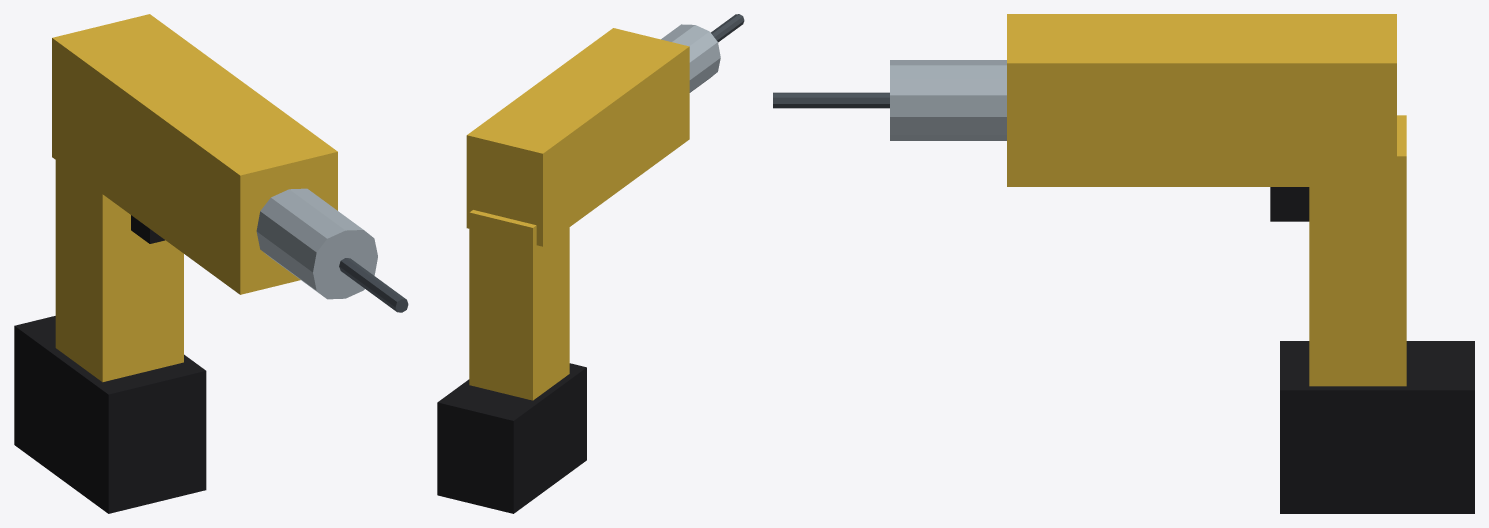
File: GT_CordlessDrill_01.glb
3 views of the same model, side by side, from view 1: azimuth 30°, elevation 25°; view 2: azimuth 150°, elevation 25°; view 3: azimuth 270°, elevation 25° (orthographic). The views are drawn at different scales.
Visible parts, largest first — view 1: GT_CordlessDrill_01; view 2: GT_CordlessDrill_01; view 3: GT_CordlessDrill_01.
Boxes of the visible parts, box(x1,y1,x2,y2) form: GT_CordlessDrill_01: box(14, 14, 408, 513); GT_CordlessDrill_01: box(437, 14, 744, 513); GT_CordlessDrill_01: box(773, 14, 1474, 513).
Size of the model in its own units: 0.06 by 0.255 by 0.36.
1 material, 1 textured.
